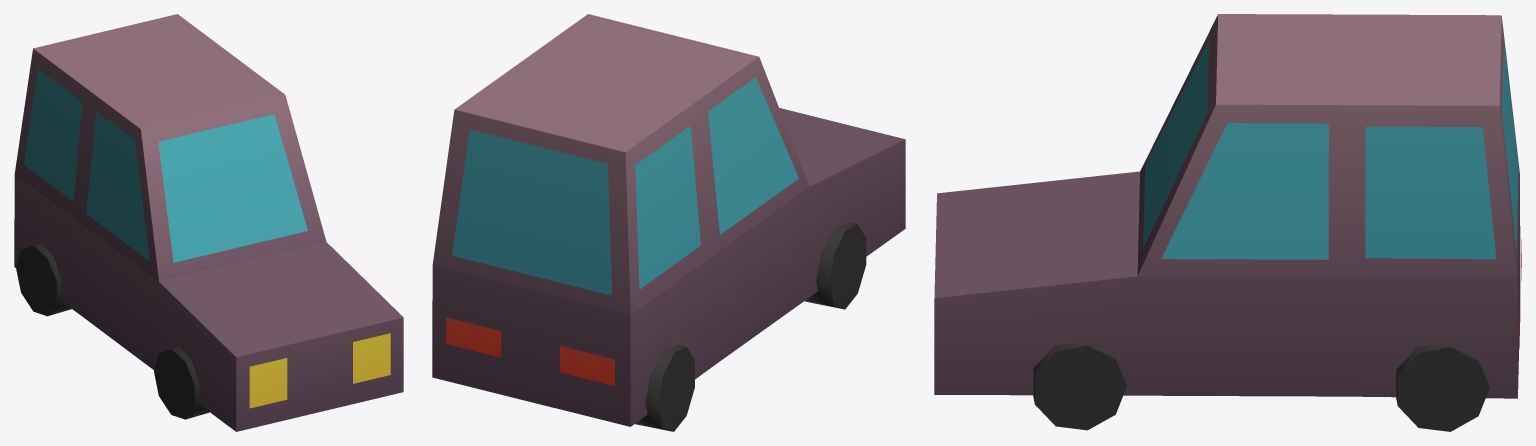
The model's file is Car_3_6.fbx.
3 renders of one model, left to right at view 1: azimuth 30°, elevation 25°; view 2: azimuth 150°, elevation 25°; view 3: azimuth 270°, elevation 25°, orthographic. The views are drawn at different scales.
Visible parts, largest first — view 1: Car_3_6; view 2: Car_3_6; view 3: Car_3_6.
Boxes of the visible parts, <box> form: Car_3_6: <box>14,14,403,431</box>; Car_3_6: <box>432,14,905,431</box>; Car_3_6: <box>934,14,1521,431</box>.
Size of the model in its own units: 220 by 270 by 456.
